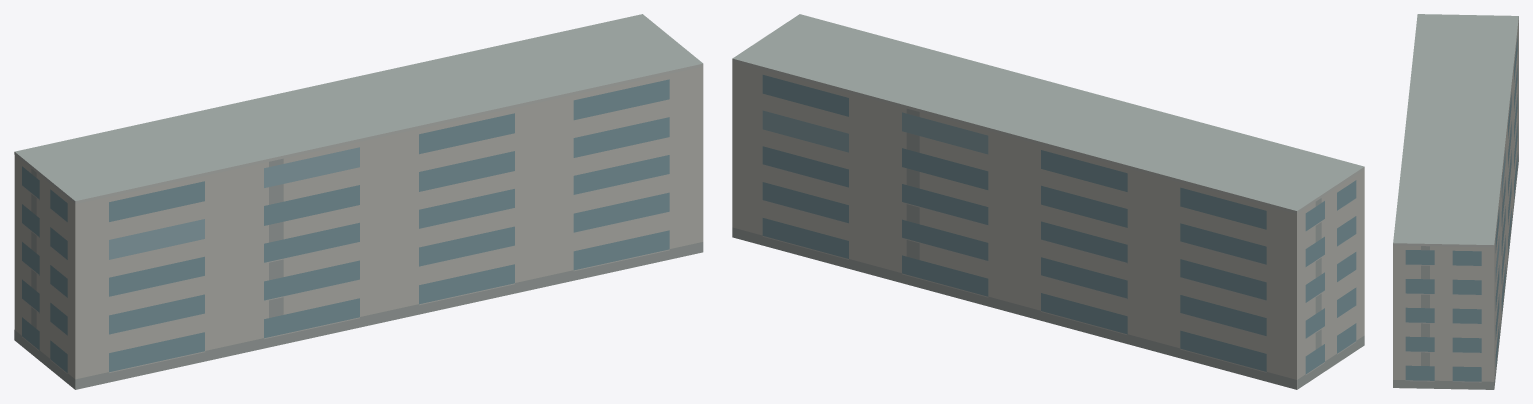
Rendered from residential-aa58120d-70bb-4b1a-9053-640c7ed68d60.glb.
3 renders of one model, left to right at view 1: azimuth 30°, elevation 25°; view 2: azimuth 150°, elevation 25°; view 3: azimuth 270°, elevation 25°, orthographic. The views are drawn at different scales.
Parts seen in each view (by area): view 1: residential-aa58120d-70bb-4b1a-9053-640c7ed68d60.tmp; view 2: residential-aa58120d-70bb-4b1a-9053-640c7ed68d60.tmp; view 3: residential-aa58120d-70bb-4b1a-9053-640c7ed68d60.tmp.
Part boxes in pixels (<box>): residential-aa58120d-70bb-4b1a-9053-640c7ed68d60.tmp: <box>14,14,703,389</box>; residential-aa58120d-70bb-4b1a-9053-640c7ed68d60.tmp: <box>732,14,1364,389</box>; residential-aa58120d-70bb-4b1a-9053-640c7ed68d60.tmp: <box>1393,14,1518,389</box>.
Bounding box in the file's own units: 52.22 × 15.25 × 12.02.
